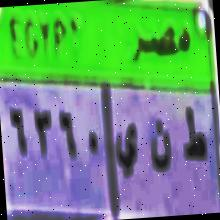0: (86, 122, 106, 170)
3: (32, 110, 56, 162)
6: (55, 110, 83, 158), (8, 106, 30, 160)
Taa: (176, 102, 210, 172)
noon: (148, 120, 175, 180)
yaa: (113, 118, 141, 184)
